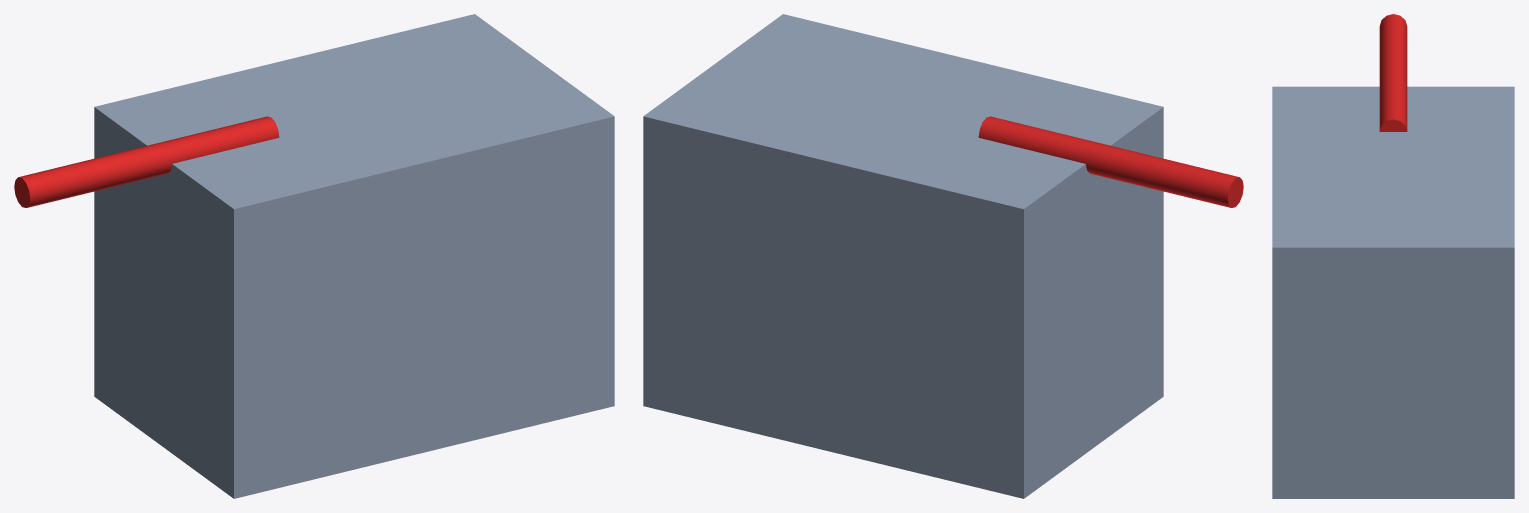
The model's file is shopping-cart.glb.
The picture shows the model from 3 angles, left to right: view 1: azimuth 30°, elevation 25°; view 2: azimuth 150°, elevation 25°; view 3: azimuth 270°, elevation 25°; orthographic projection. The views are drawn at different scales.
Bounding box in the file's own units: 1.51 × 0.84 × 0.7.
